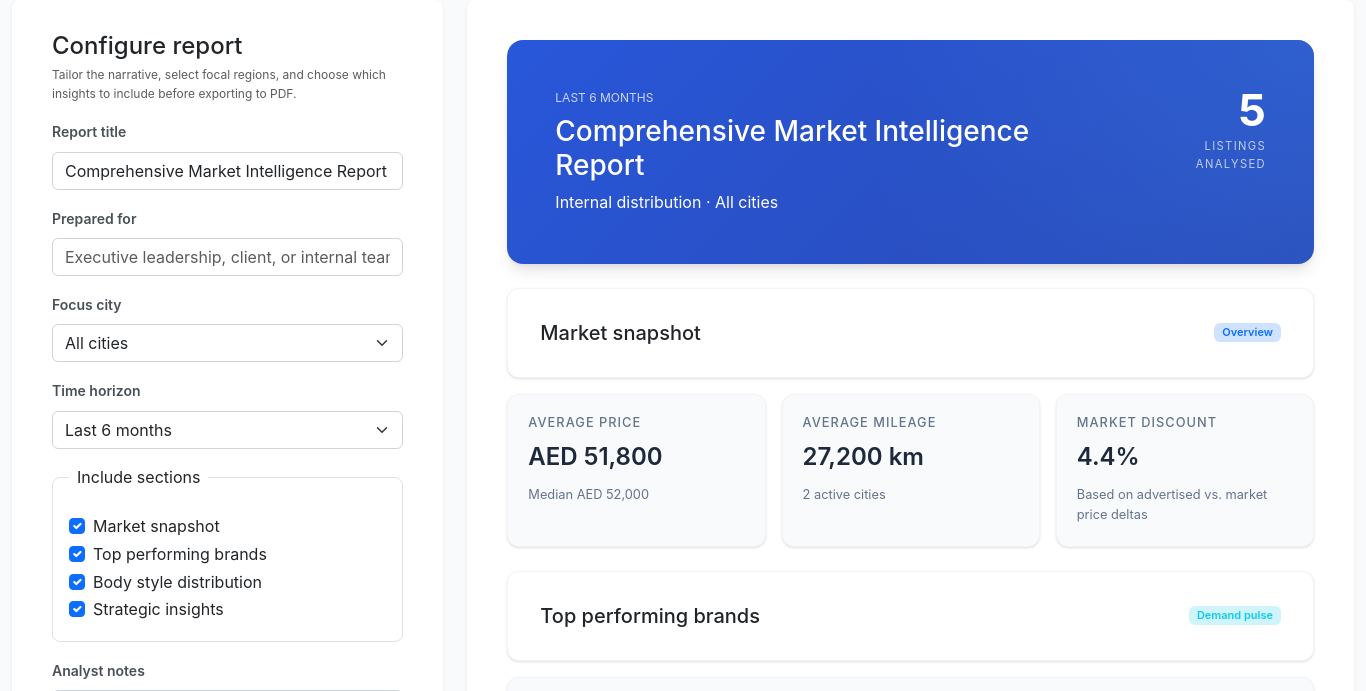
Test: ReportBuilder › filters summary when focus city changes
The width and height of the screenshot is (1366, 691).
Select "Abu Dhabi" in the dropdown labelled "Focus city": [228, 343] box x1=52 y1=324 x2=403 y2=362
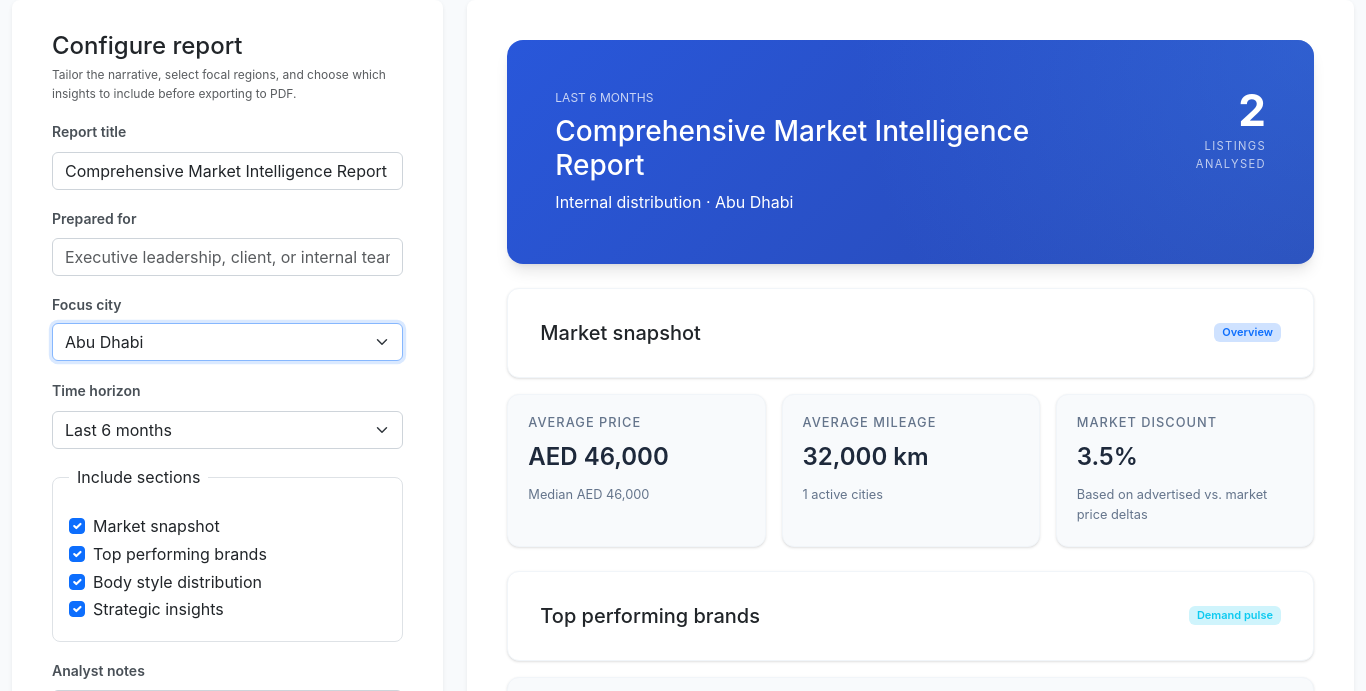
Expected: the text "2" is shown, x1=1238 y1=88 x2=1266 y2=132
Expected: the text with class "report-preview__stat-value" reads "2", x1=1238 y1=83 x2=1266 y2=137
Expected: the text "Internal distribution · Abu Dhabi" is shown, x1=555 y1=192 x2=793 y2=212
